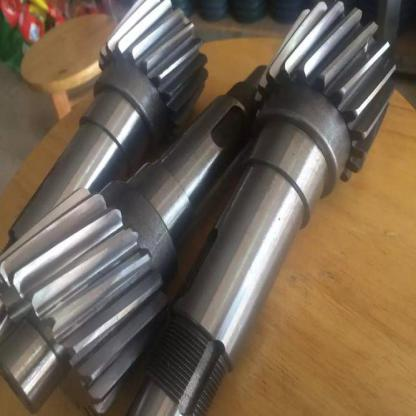FOD: (0, 184, 177, 415), (249, 0, 402, 192), (94, 0, 214, 138)
